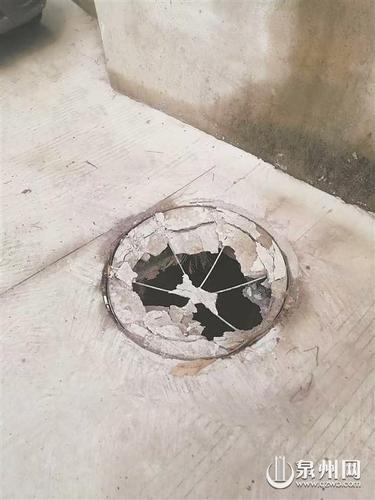broke: (74, 195, 328, 367)
